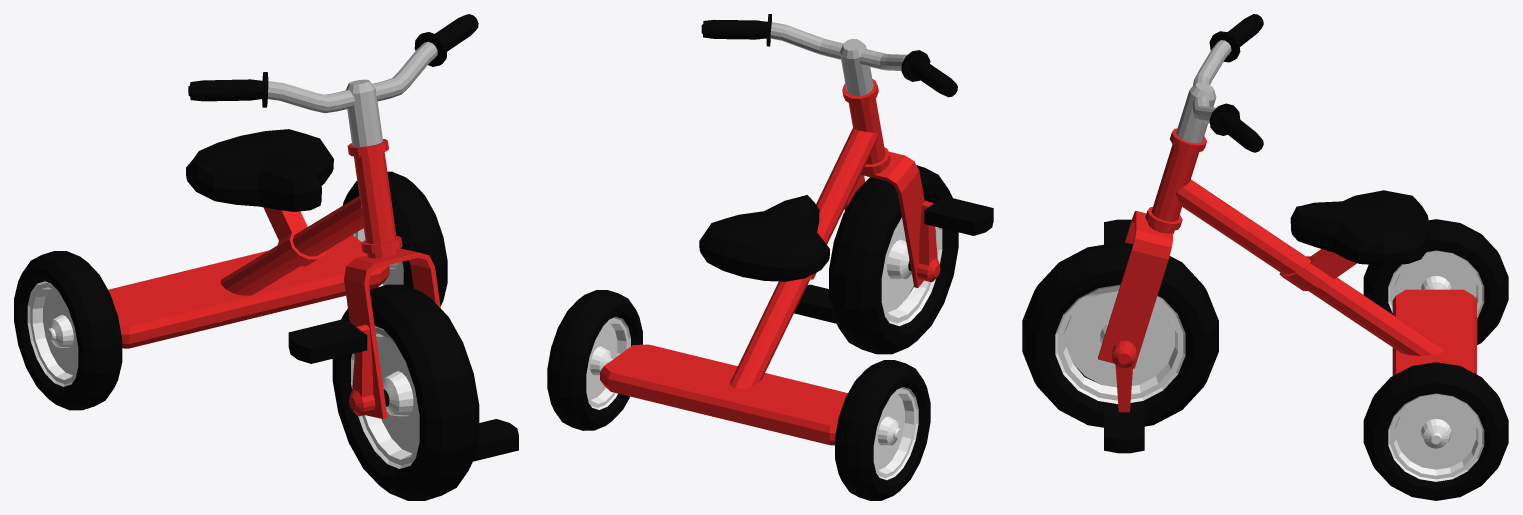
File: 40c9433b-1aca-40a5-be75-69983e3855a7.glb
The picture shows the model from 3 angles, left to right: view 1: azimuth 30°, elevation 25°; view 2: azimuth 150°, elevation 25°; view 3: azimuth 270°, elevation 25°; orthographic projection. The views are drawn at different scales.
Parts seen in each view (by area): view 1: Tricycle; view 2: Tricycle; view 3: Tricycle.
Boxes of the visible parts, box(x1,y1,x2,y2) form: Tricycle: box(14, 14, 518, 500); Tricycle: box(547, 14, 993, 500); Tricycle: box(1022, 14, 1508, 500).
Size of the model in its own units: 135 by 141 by 173.
1 material, 1 textured.
